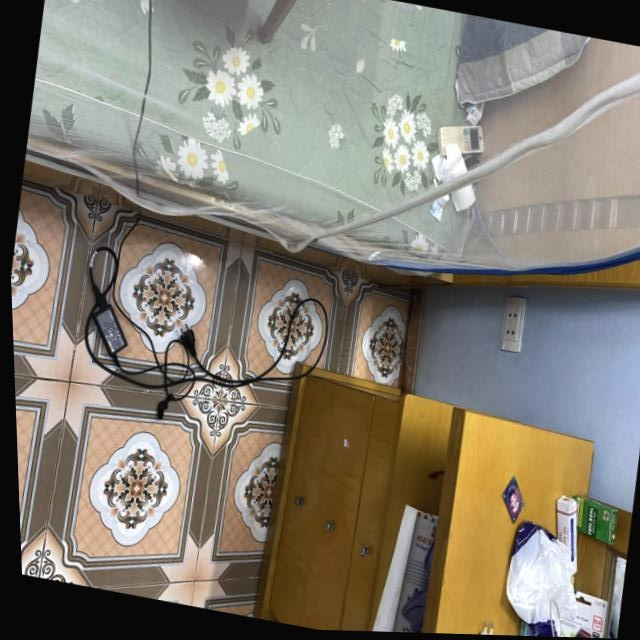outlet: (496, 292, 530, 354)
